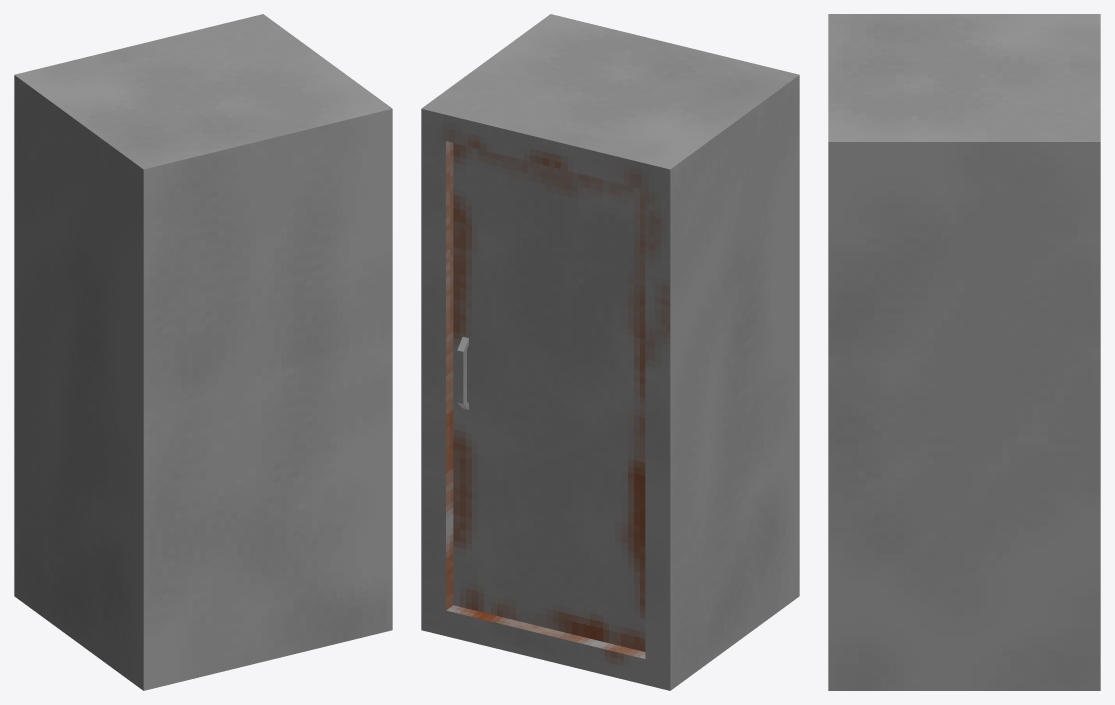
Rendered from metalLocker.gltf.
3 renders of one model, left to right at view 1: azimuth 30°, elevation 25°; view 2: azimuth 150°, elevation 25°; view 3: azimuth 270°, elevation 25°, orthographic. The views are drawn at different scales.
Visible parts, largest first — view 1: cuboid; view 2: cuboid; view 3: cuboid.
Boxes of the visible parts, x1=… form: cuboid: x1=14, y1=14, x2=392, y2=690; cuboid: x1=421, y1=14, x2=799, y2=690; cuboid: x1=828, y1=14, x2=1100, y2=690.
Bounding box in the file's own units: 1.25 × 2.5 × 1.12.
1 material, 1 textured.
